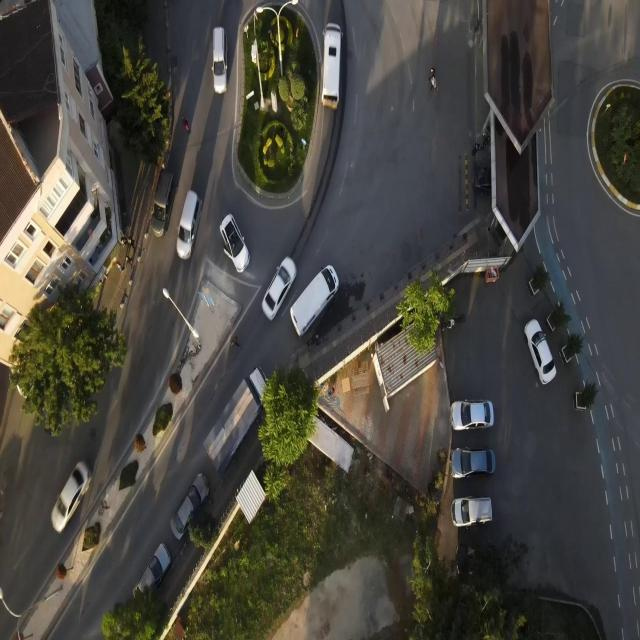p3rson: (182, 114, 191, 135), (230, 335, 241, 348), (480, 136, 490, 150), (427, 67, 435, 83), (127, 237, 136, 251), (116, 261, 125, 274), (472, 142, 480, 156), (172, 56, 178, 74), (430, 75, 436, 93), (125, 256, 133, 269), (121, 236, 127, 248)
